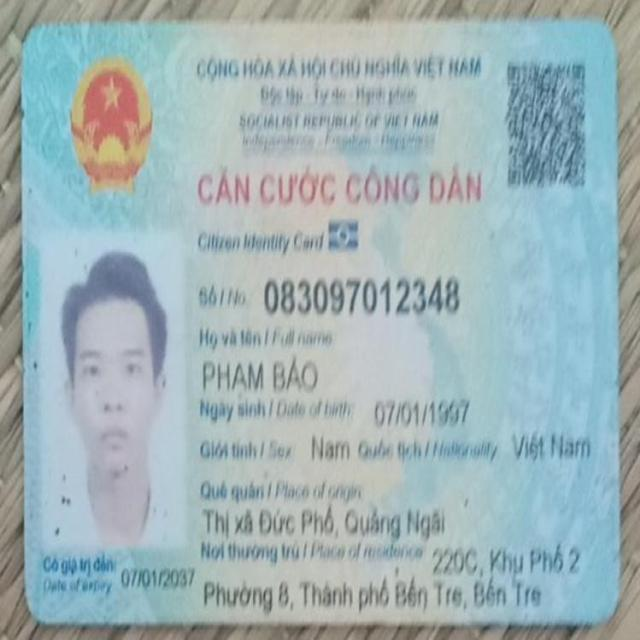current_place: (200, 573, 553, 617), (427, 539, 583, 581)
dob: (371, 400, 474, 427)
expire_date: (119, 562, 196, 591)
gender: (311, 432, 350, 466)
id: (261, 276, 462, 317)
name: (201, 353, 323, 400)
nationality: (510, 429, 594, 464)
origin_place: (201, 503, 448, 543)
qr: (506, 58, 590, 190)
